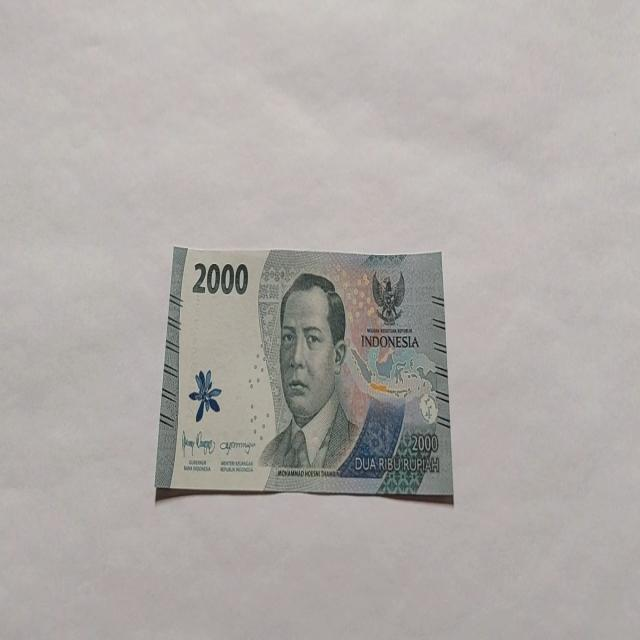dua ribu rupiah: (154, 243, 454, 502), (258, 271, 360, 474)
